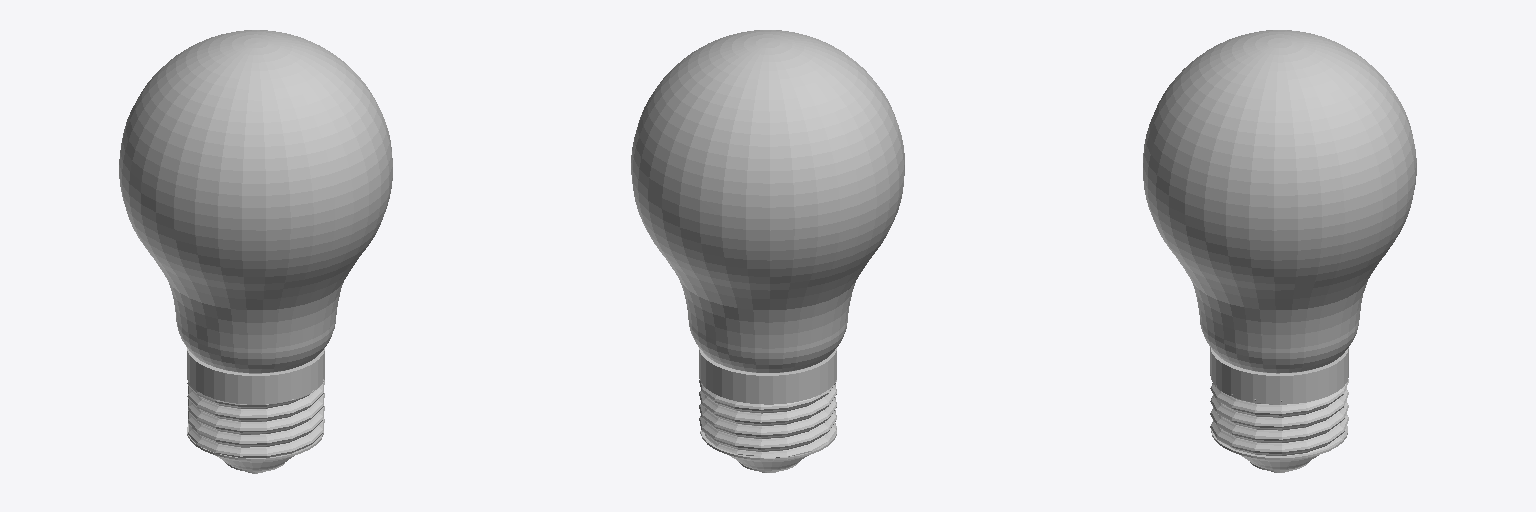
The model's file is bulb.obj.
3 views of the same model, side by side, from view 1: azimuth 30°, elevation 25°; view 2: azimuth 150°, elevation 25°; view 3: azimuth 270°, elevation 25° (orthographic).
Visible parts, largest first — view 1: Sphere; view 2: Sphere; view 3: Sphere.
Boxes of the visible parts, x1=… form: Sphere: x1=119, y1=30, x2=392, y2=473; Sphere: x1=631, y1=30, x2=904, y2=472; Sphere: x1=1143, y1=30, x2=1416, y2=472.
Bounding box in the file's own units: 2.9 × 4.99 × 2.9.